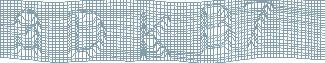3: (13, 8, 44, 59)
7: (242, 1, 276, 51)
B: (197, 2, 237, 57)
D: (65, 8, 108, 61)
k: (138, 10, 173, 62)
